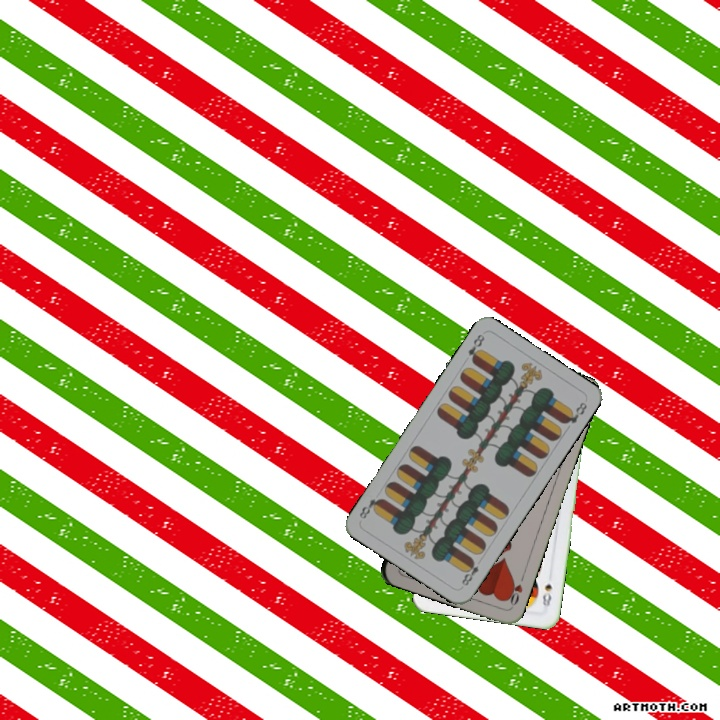E8: (464, 330, 487, 366), (457, 555, 481, 589)
HO: (502, 570, 527, 610)
S8: (538, 579, 554, 613)
